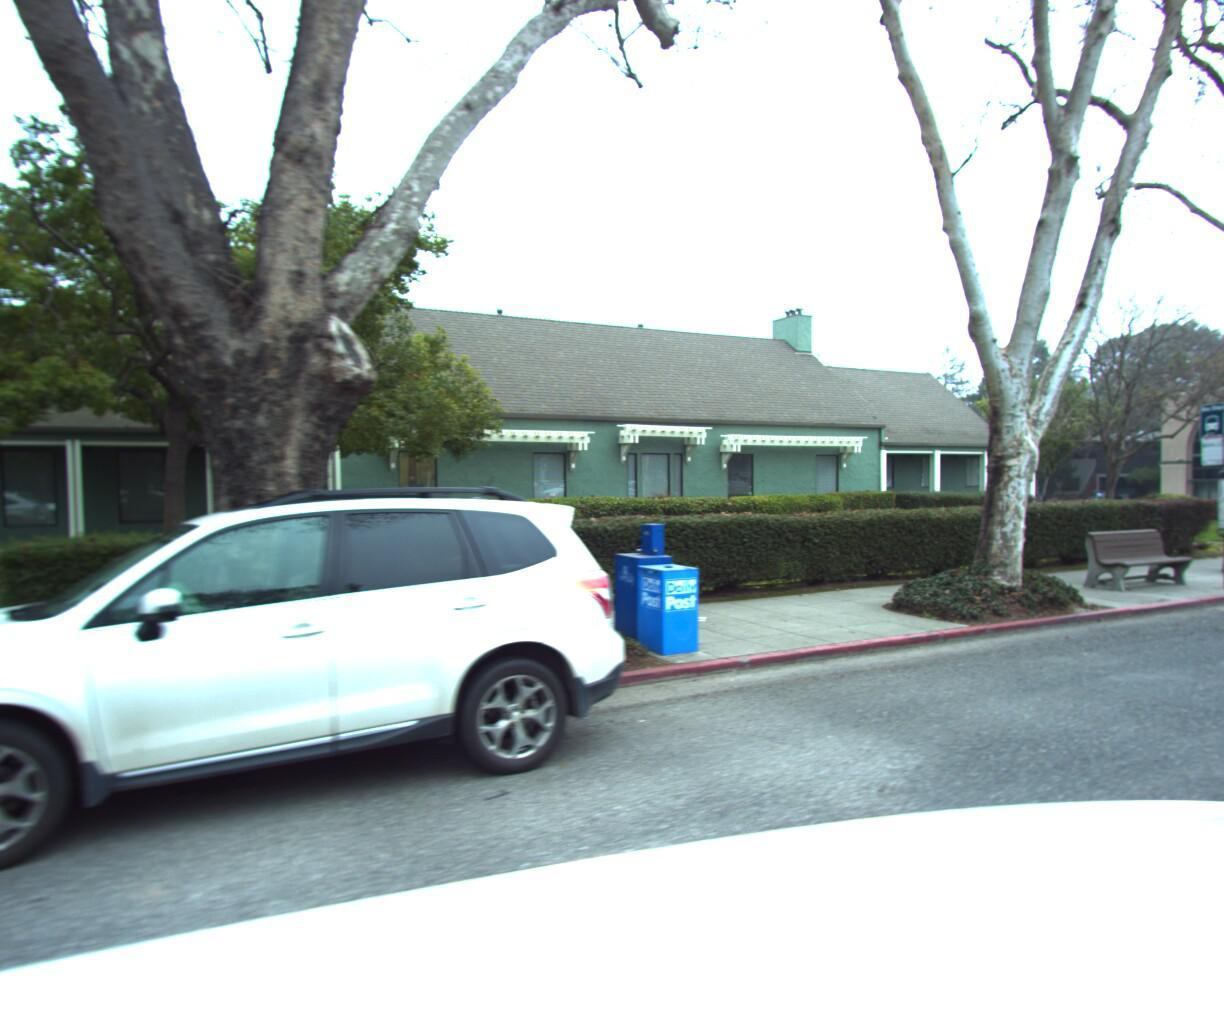car: (0, 484, 652, 952)
